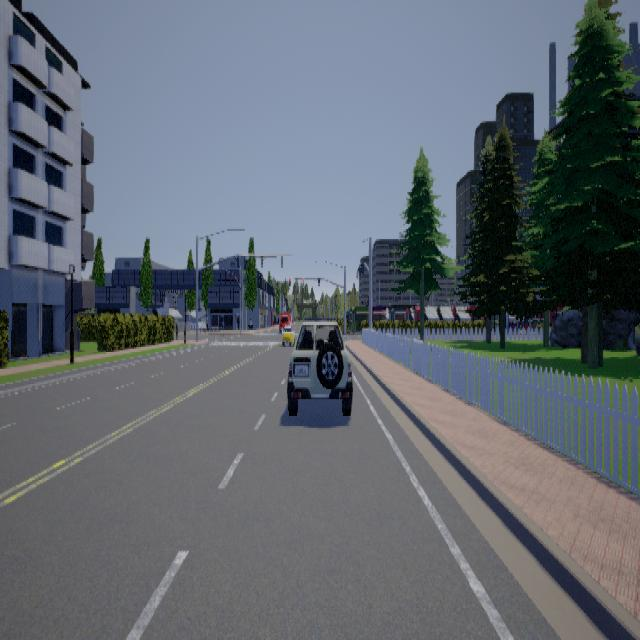vehicle: (278, 312, 352, 414)
